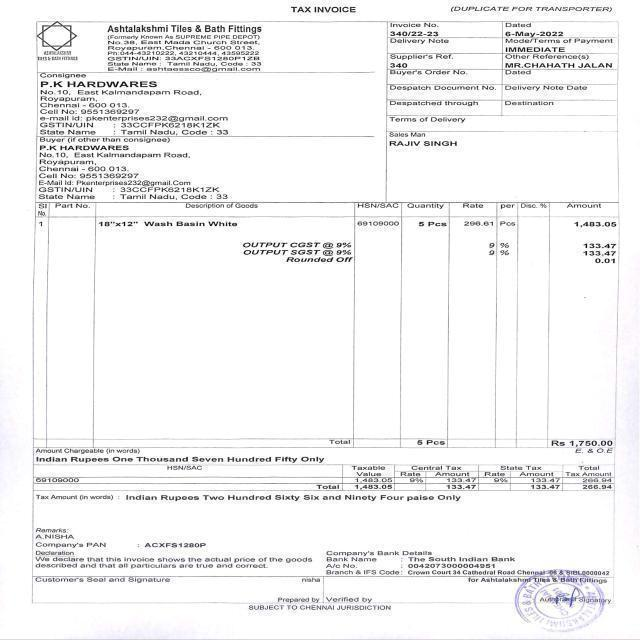paragraph: (33, 138, 290, 200), (36, 72, 246, 136), (324, 544, 619, 584), (503, 37, 616, 125), (97, 21, 264, 73), (385, 38, 494, 112), (25, 524, 313, 551), (29, 550, 309, 572), (244, 590, 399, 625), (31, 574, 322, 589), (34, 492, 469, 502), (325, 435, 621, 449), (520, 591, 632, 618), (32, 19, 88, 65), (445, 0, 613, 15), (385, 132, 465, 151), (496, 23, 578, 39), (284, 0, 361, 17), (384, 20, 449, 37), (384, 116, 474, 128)
table: (31, 201, 622, 281), (27, 465, 620, 491), (21, 446, 351, 464)
